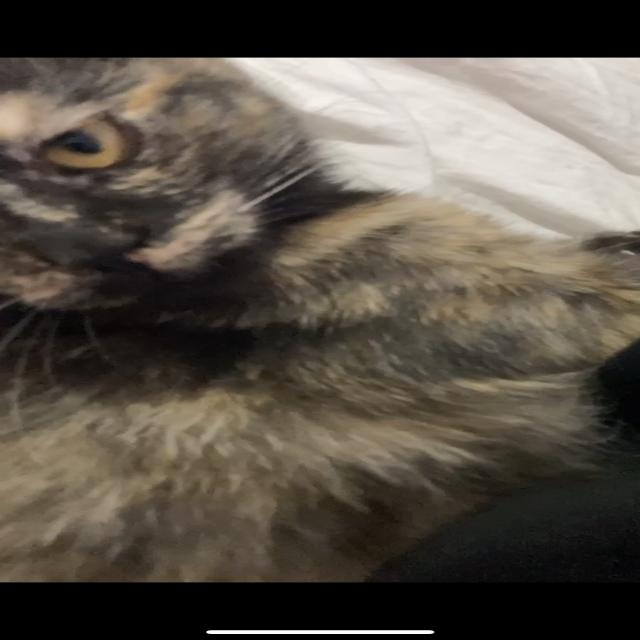authorized: (1, 57, 638, 581)
